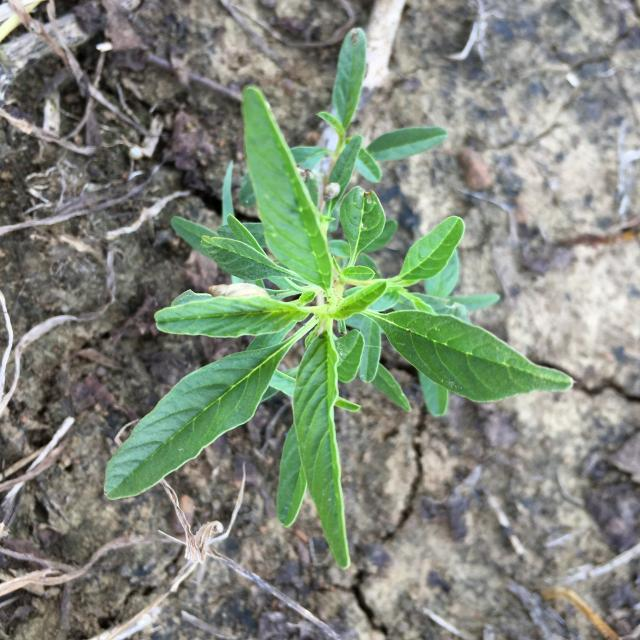Waterhemp: (104, 28, 574, 570)
